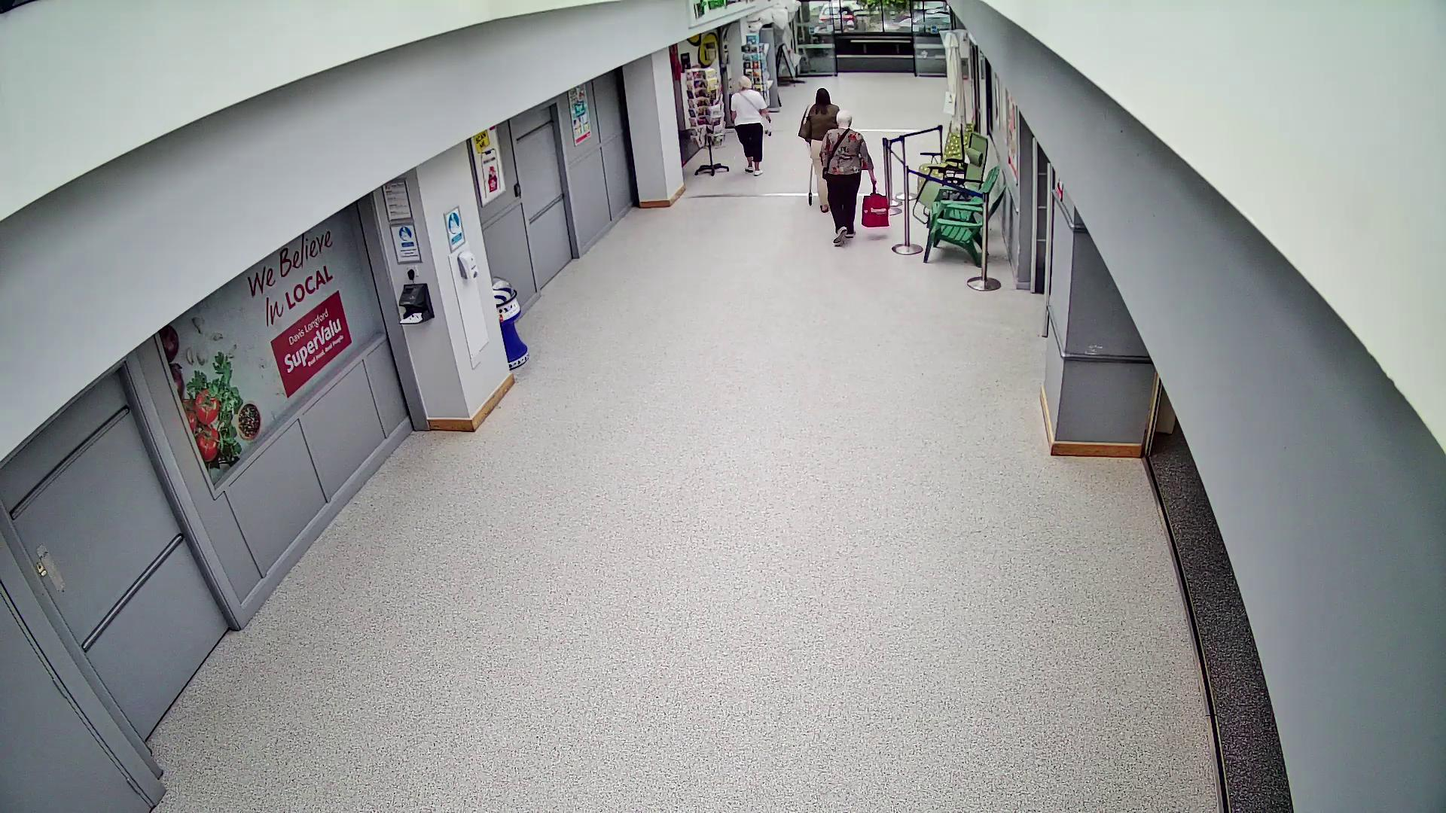filled-shopping-bags: (862, 183, 890, 227)
person: (819, 111, 876, 246)
person-with-filled-shopping-bag-s-: (820, 111, 889, 247)
